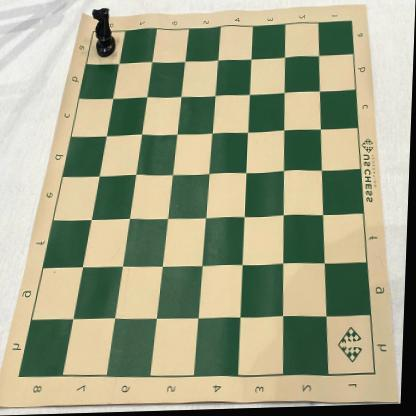black-knight: (90, 8, 117, 59)
